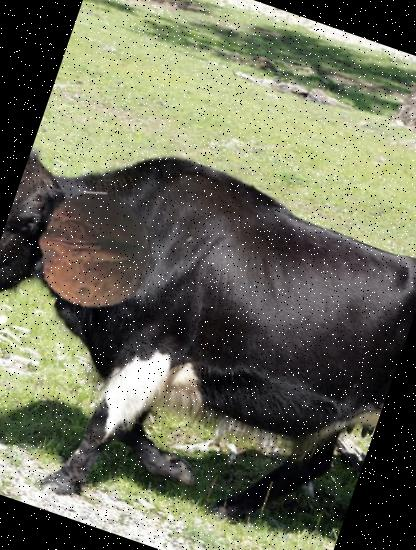Walnut: (20, 176, 170, 326)
